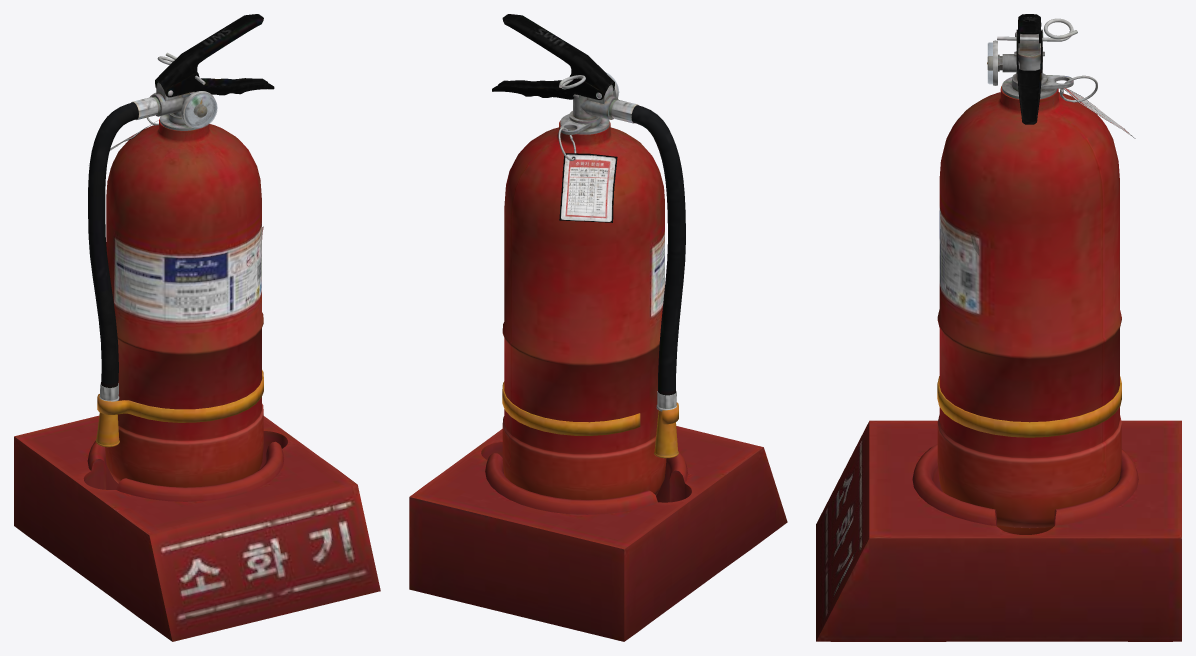
The picture shows the model from 3 angles, left to right: view 1: azimuth 30°, elevation 25°; view 2: azimuth 150°, elevation 25°; view 3: azimuth 270°, elevation 25°; orthographic projection. The views are drawn at different scales.
Visible parts, largest first — view 1: korean_fire_extinguisher_01; view 2: korean_fire_extinguisher_01; view 3: korean_fire_extinguisher_01.
Boxes of the visible parts, x1,y1,x2,y2 form: korean_fire_extinguisher_01: (14, 14, 380, 641); korean_fire_extinguisher_01: (409, 14, 787, 641); korean_fire_extinguisher_01: (816, 14, 1181, 641).
Bounding box in the file's own units: 0.28 × 0.6593 × 0.3674.
Materials: 3 (3 with a texture image).
